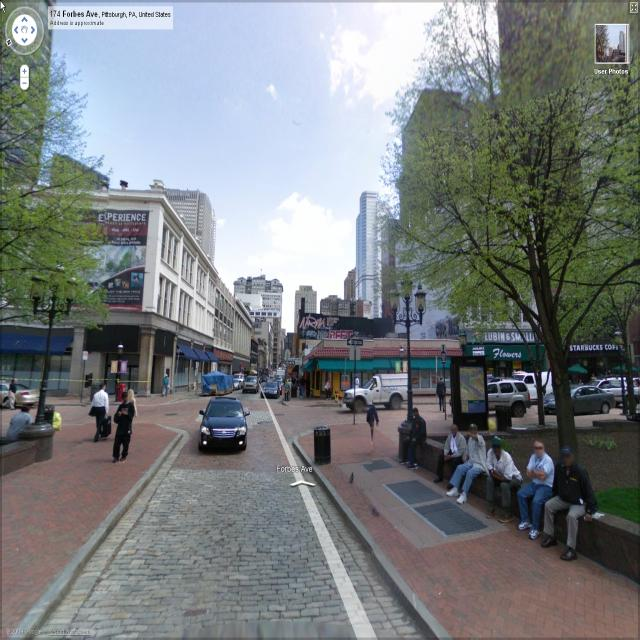b_1: (118, 195, 214, 387), (356, 185, 388, 325), (174, 171, 214, 257), (214, 273, 234, 382), (234, 295, 256, 384), (287, 280, 319, 318), (324, 295, 355, 314)
b_2: (490, 2, 640, 345), (1, 178, 162, 388), (457, 102, 544, 340), (395, 221, 543, 347), (398, 100, 470, 342), (0, 2, 80, 187), (35, 141, 128, 205)
